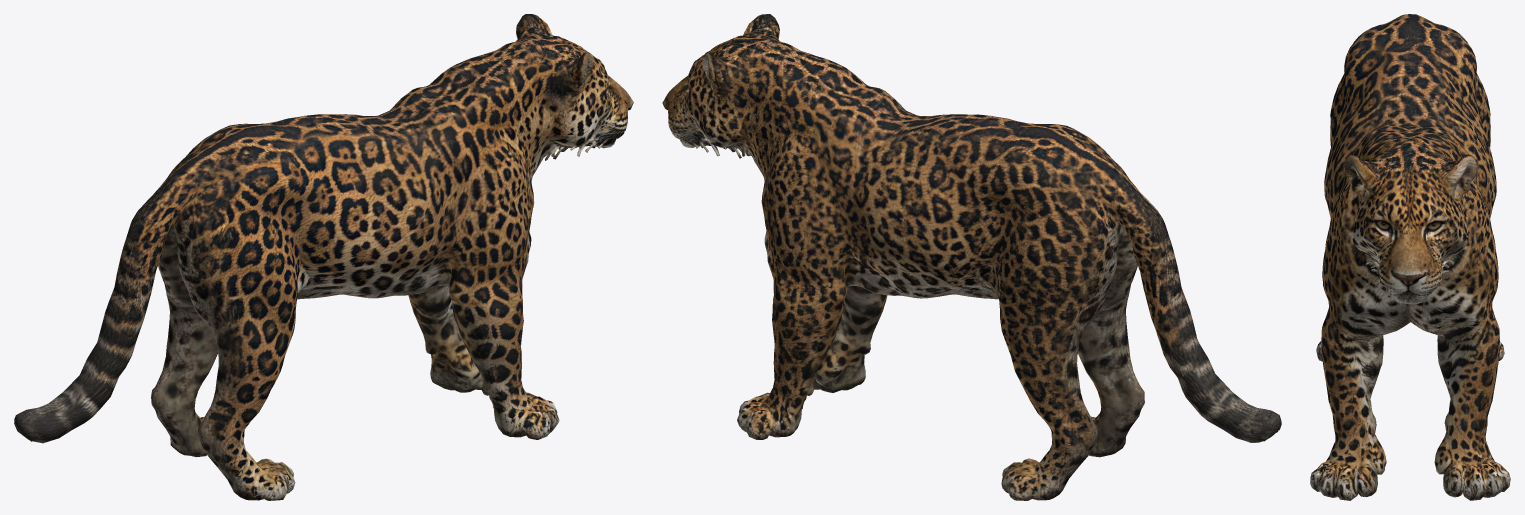
Rendered from jaguar-tripo-h31.glb.
3 renders of one model, left to right at view 1: azimuth 30°, elevation 25°; view 2: azimuth 150°, elevation 25°; view 3: azimuth 270°, elevation 25°, orthographic. The views are drawn at different scales.
Visible parts, largest first — view 1: tripo_node_7ba9d801-4711-493e-8545-530ef9094160; view 2: tripo_node_7ba9d801-4711-493e-8545-530ef9094160; view 3: tripo_node_7ba9d801-4711-493e-8545-530ef9094160.
Boxes of the visible parts, box(x1,y1,x2,y2) form: tripo_node_7ba9d801-4711-493e-8545-530ef9094160: box(14, 14, 633, 500); tripo_node_7ba9d801-4711-493e-8545-530ef9094160: box(662, 14, 1281, 500); tripo_node_7ba9d801-4711-493e-8545-530ef9094160: box(1310, 14, 1510, 500).
Size of the model in its own units: 0.9813 by 0.5478 by 0.271.
Materials: 1 (1 with a texture image).
